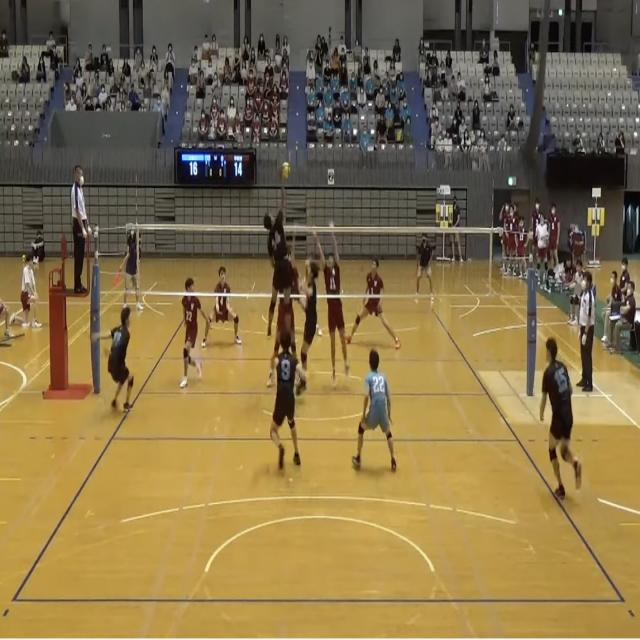spike: (262, 161, 298, 344)
